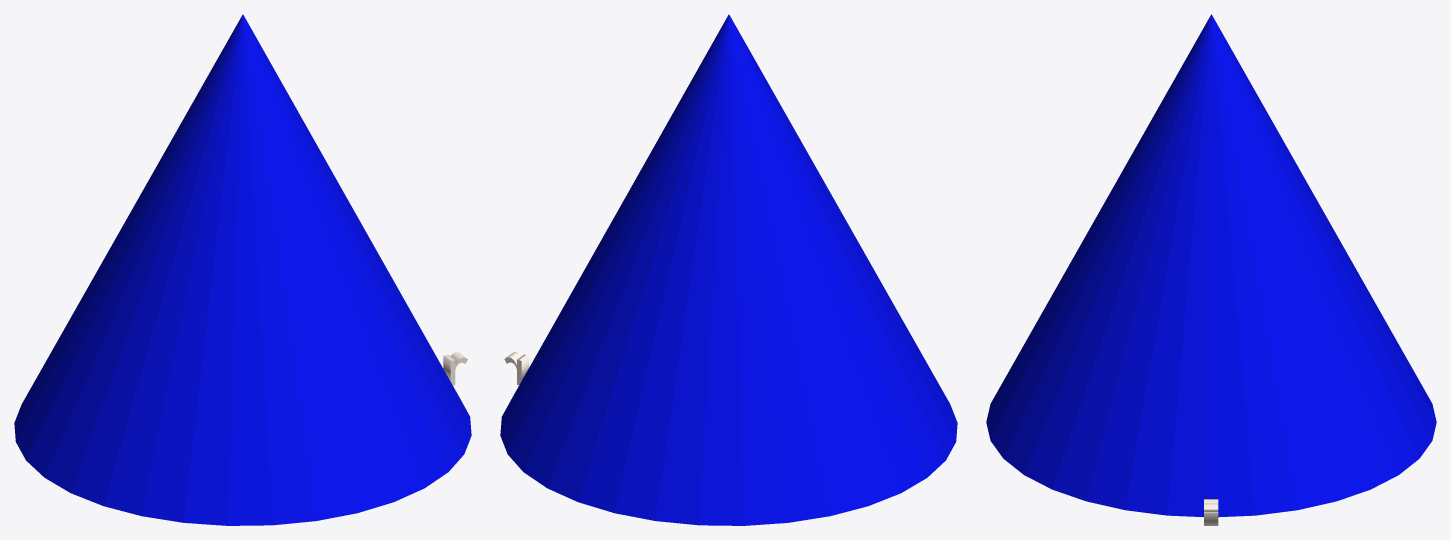
File: 6. kerucut.fbx
3 renders of one model, left to right at view 1: azimuth 30°, elevation 25°; view 2: azimuth 150°, elevation 25°; view 3: azimuth 270°, elevation 25°, orthographic.
Visible parts, largest first — view 1: Cone; view 2: Cone; view 3: Cone.
Part boxes in pixels (x1=…): Cone: x1=14, y1=14, x2=471, y2=525; Cone: x1=500, y1=14, x2=957, y2=525; Cone: x1=986, y1=14, x2=1436, y2=517.
Size of the model in its own units: 787 by 751 by 744.
